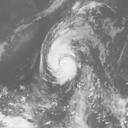cyclone: (39, 19, 81, 86)
